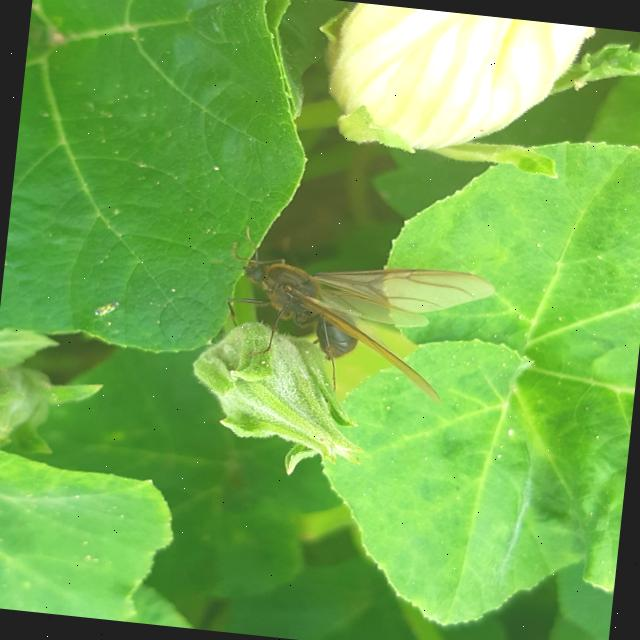Alive-Male-Alate: (198, 223, 498, 408)
